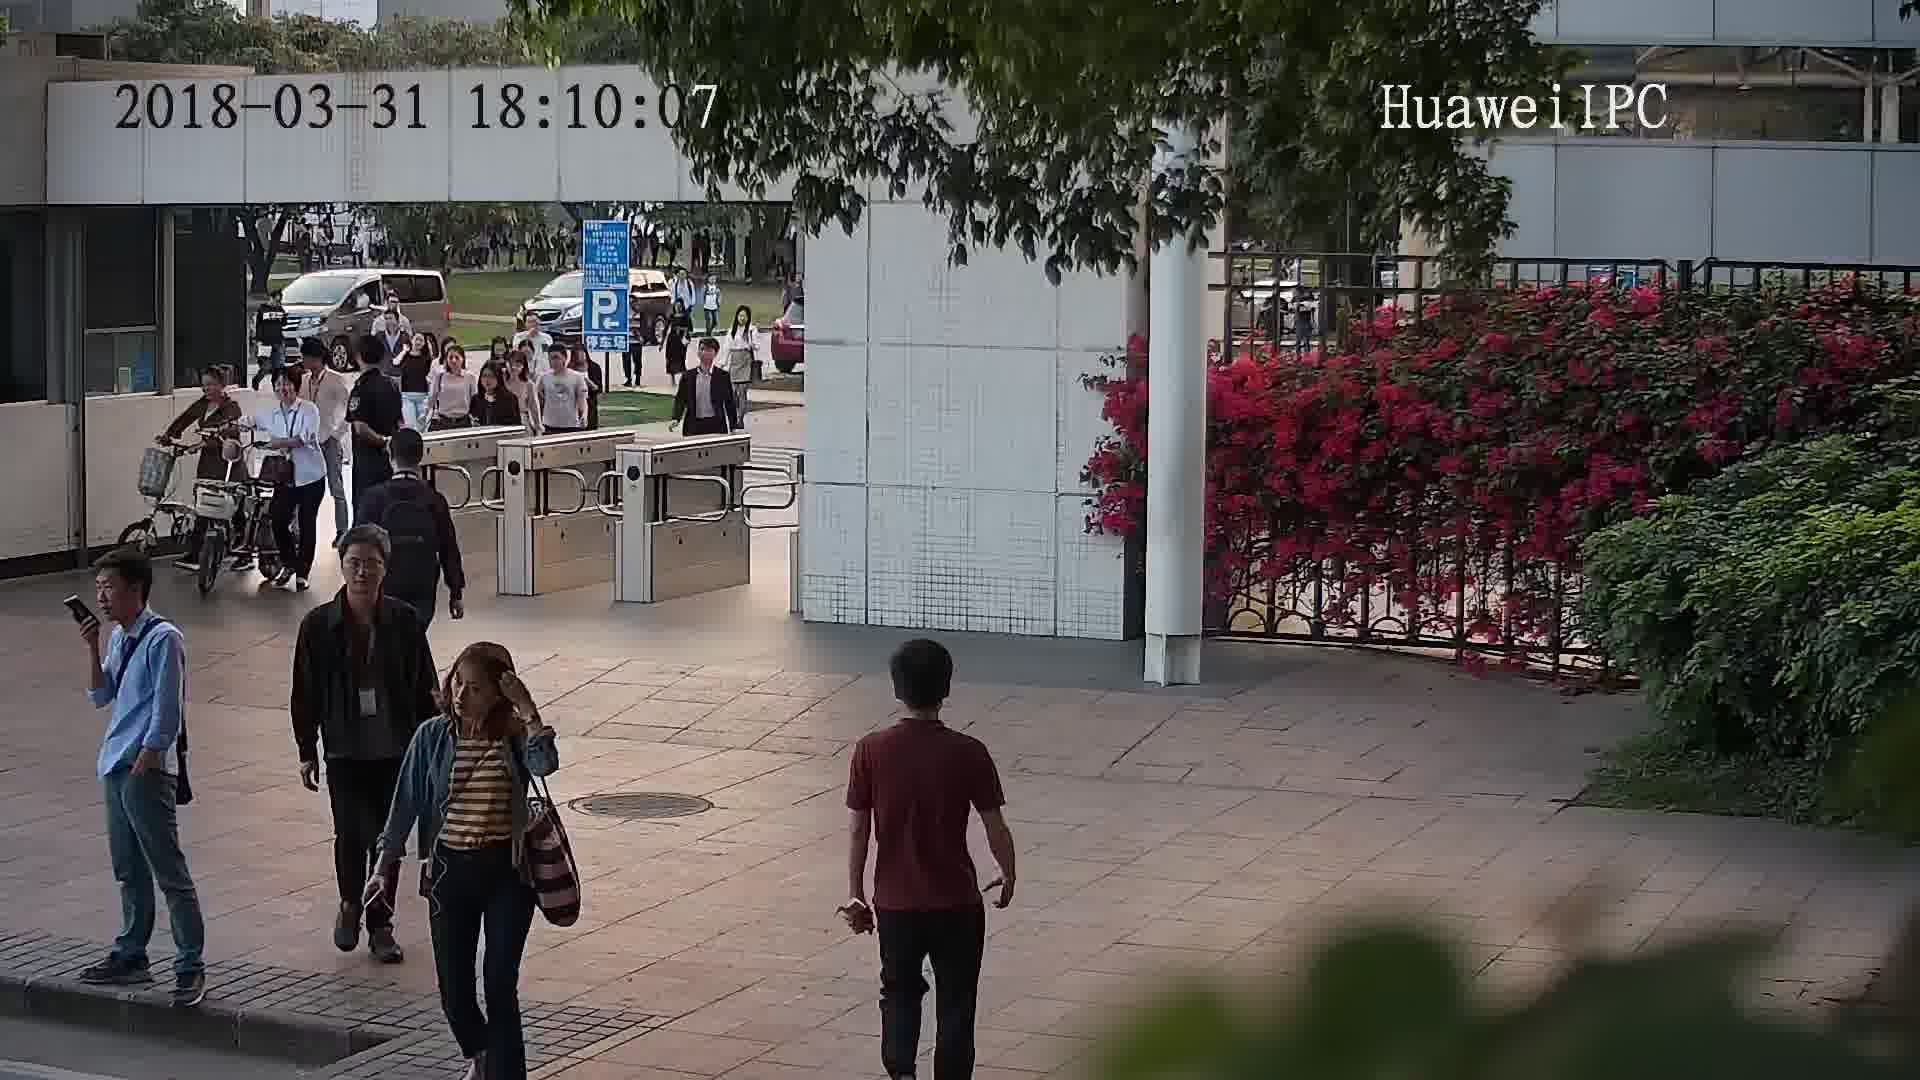face: (442, 662, 503, 723), (83, 564, 142, 623), (337, 541, 393, 597)
person: (852, 631, 992, 773), (298, 526, 423, 647), (418, 639, 539, 752), (90, 544, 185, 672), (364, 423, 444, 511), (259, 363, 319, 430), (185, 360, 243, 420), (347, 334, 398, 396), (294, 335, 345, 393), (681, 333, 731, 387), (535, 342, 584, 389), (470, 360, 517, 406), (430, 338, 476, 383), (719, 303, 760, 348), (370, 308, 411, 351), (395, 325, 434, 363), (254, 286, 289, 323), (661, 296, 696, 329), (698, 273, 726, 301), (670, 263, 690, 287)
